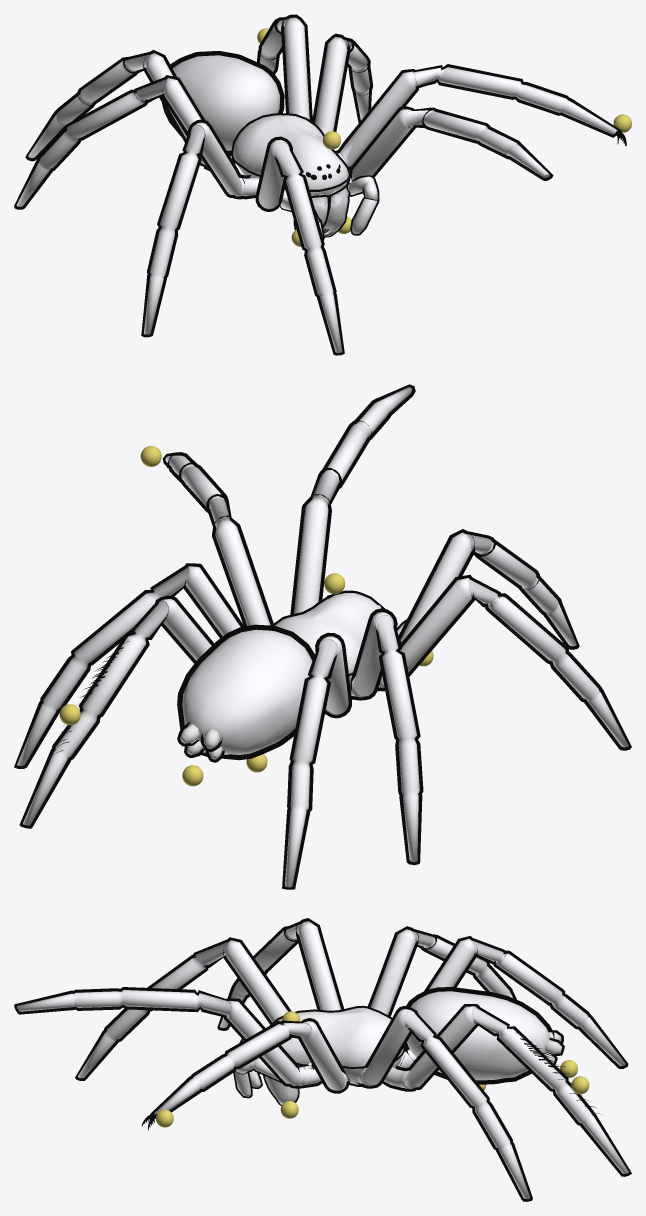
3 views of the same model, one above another, from view 1: azimuth 30°, elevation 25°; view 2: azimuth 150°, elevation 25°; view 3: azimuth 270°, elevation 25° (orthographic). The views are drawn at different scales.
Visible parts, largest first — view 1: Sphere025, Cylinder014, Cylinder003_1, Sphere008_1, Cylinder010_1, Cylinder015, Cylinder013, Cylinder017, Cylinder012, Cylinder016, Cylinder003_2, Cylinder010_2 (+9 smaller); view 2: Sphere025, Cylinder003_1, Cylinder013, Cylinder017, Cylinder016, Cylinder012, Cylinder015, Cylinder010_1, Cylinder014, Sphere008_1, Cylinder003_2, Cylinder013_1 (+8 smaller); view 3: Sphere025, Cylinder015, Cylinder016, Cylinder017, Cylinder010_1, Cylinder014, Sphere008_1, Cylinder012, Cylinder003_1, Cylinder013, Cylinder015_1, Cylinder016_1 (+10 smaller).
Boxes of the visible parts, x1,y1,x2,y2 form: Sphere025: (172, 55, 279, 150); Cylinder014: (337, 67, 617, 166); Cylinder003_1: (143, 122, 259, 334); Sphere008_1: (233, 115, 348, 197); Cylinder010_1: (258, 139, 342, 352); Cylinder015: (349, 109, 549, 181); Cylinder013: (16, 78, 244, 206); Cylinder017: (315, 37, 369, 134); Cylinder012: (28, 53, 231, 166); Cylinder016: (260, 17, 309, 119); Cylinder003_2: (141, 119, 255, 337); Cylinder010_2: (255, 136, 344, 355); Sphere025: (182, 629, 312, 754); Cylinder003_1: (378, 578, 628, 747); Cylinder013: (349, 612, 419, 862); Cylinder017: (17, 566, 240, 765); Cylinder016: (23, 599, 211, 825); Cylinder012: (285, 636, 348, 887); Cylinder015: (294, 387, 411, 613); Cylinder010_1: (400, 532, 576, 646); Cylinder014: (165, 455, 270, 625); Sphere008_1: (275, 593, 380, 680); Cylinder003_2: (377, 574, 631, 750); Cylinder013_1: (350, 608, 423, 865); Sphere025: (407, 991, 549, 1080); Cylinder015: (17, 990, 320, 1085); Cylinder016: (384, 1006, 628, 1173); Cylinder017: (357, 1009, 530, 1199); Cylinder010_1: (78, 940, 288, 1078); Cylinder014: (154, 1021, 347, 1114); Sphere008_1: (277, 1007, 403, 1084); Cylinder012: (429, 938, 625, 1065); Cylinder003_1: (220, 921, 340, 1027); Cylinder013: (370, 929, 512, 1014); Cylinder015_1: (14, 987, 322, 1088); Cylinder016_1: (382, 1004, 631, 1176).
Size of the model in its own units: 146 by 55.13 by 176.
